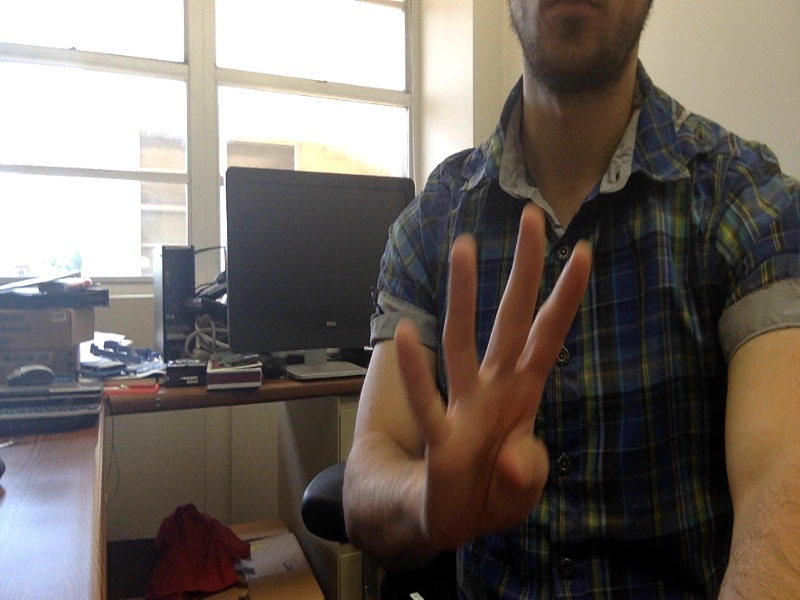4-hand: (389, 209, 595, 539)
